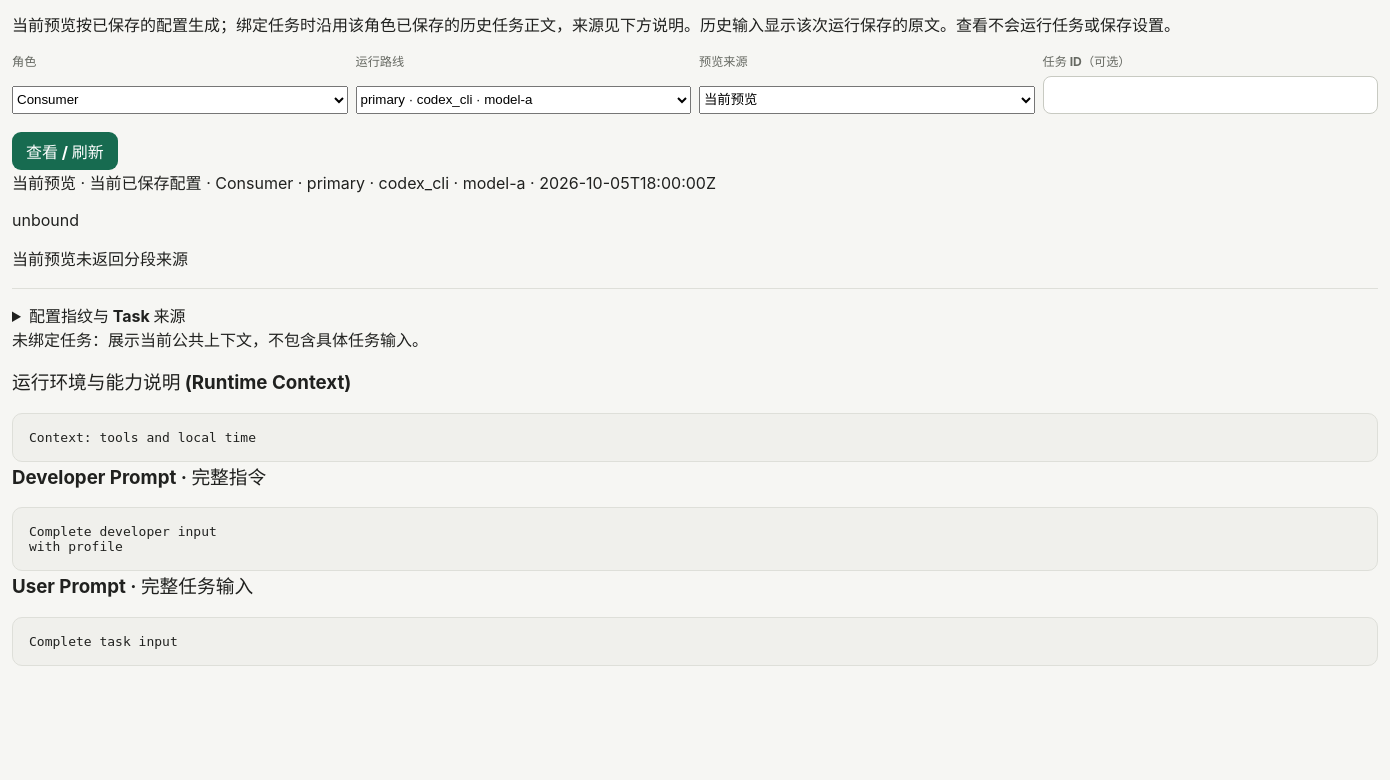
RuntimePromptPreview › requires a run ID for history and never substitutes current input for missing history
Select "历史输入" in the dropdown labelled "预览来源" at (867, 100), box [699,86,1034,114]
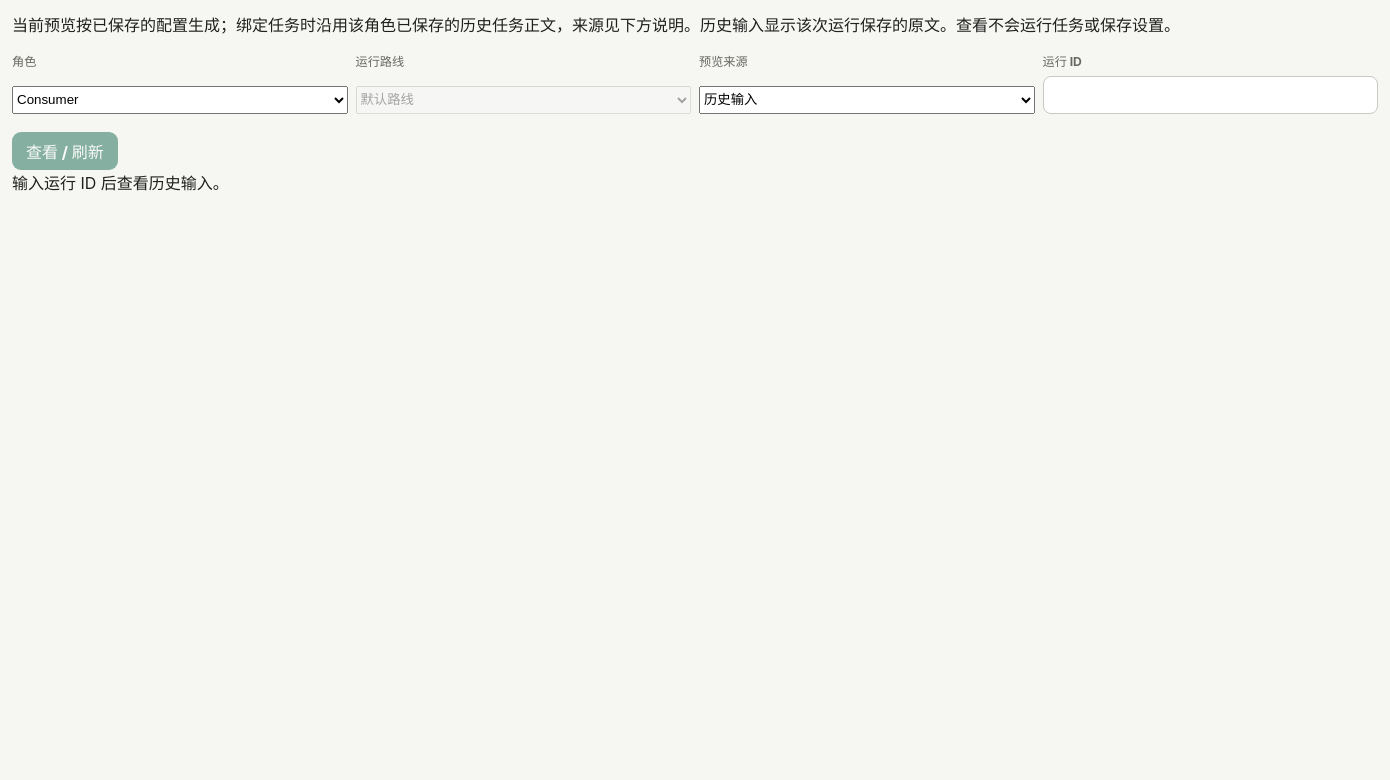
Check: the button "查看 / 刷新" is disabled, box [12,132,118,170]
Type "9" into the number field labelled "运行 ID".
click(1210, 95); type("9")  # box [1042,76,1378,114]
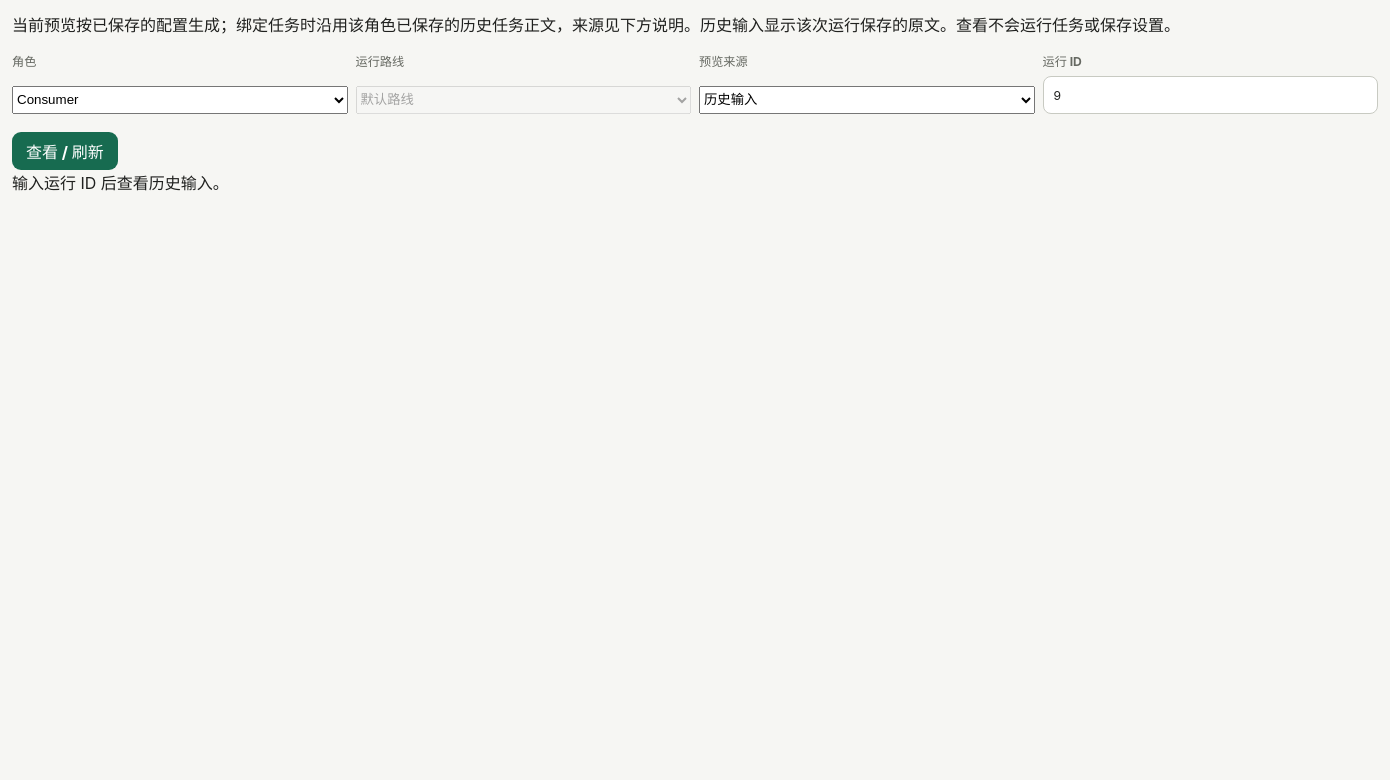
Click the button "查看 / 刷新".
click(65, 151)  # box [12,132,118,170]
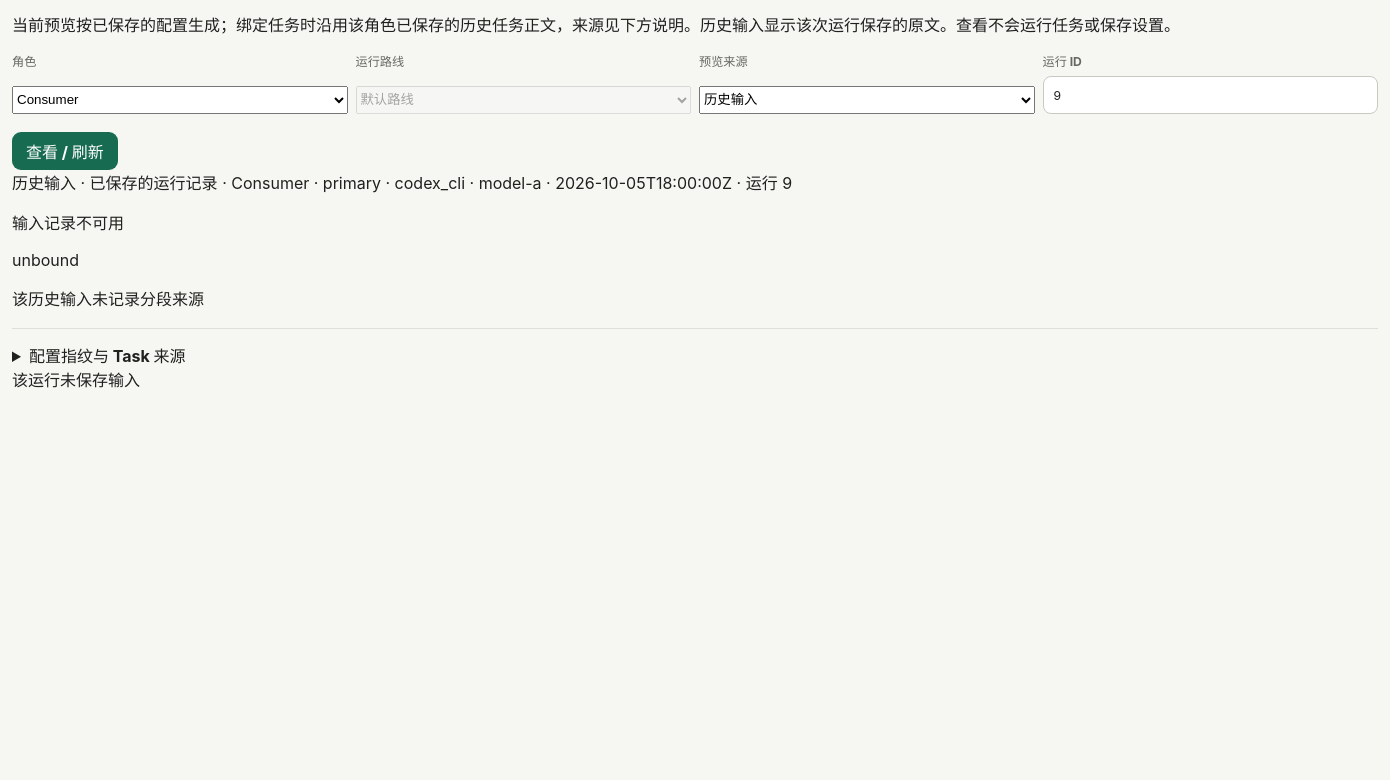
Check: the text "Complete task input" is not shown
Check: the dropdown labelled "运行路线" is disabled, box [356,86,691,114]
Check: the text "该运行未保存输入" is shown, box [12,370,140,390]
